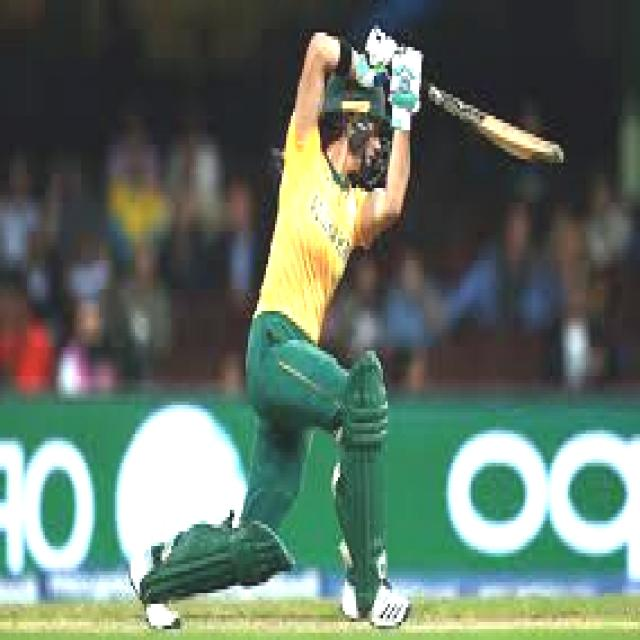toe: (526, 125, 565, 178)
